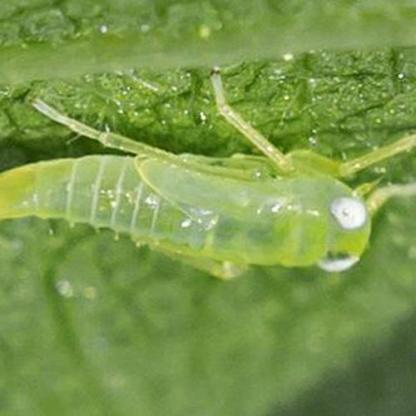green-leafhopper: (0, 132, 386, 276)
